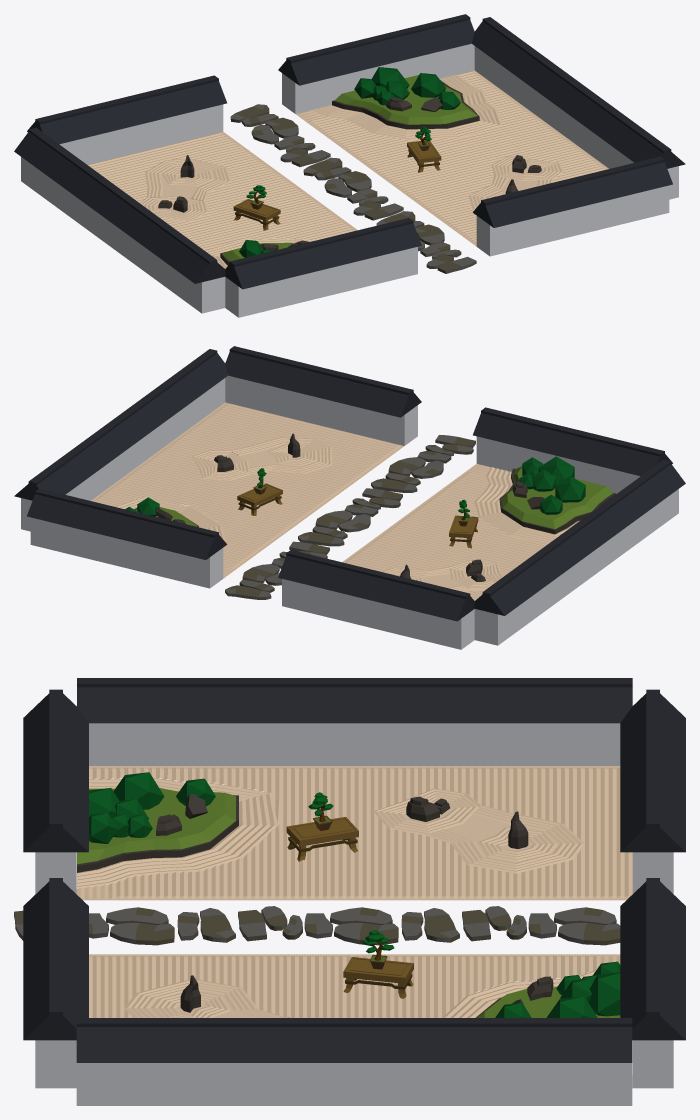
The model's file is TT_Japanese_sand_Garden.fbx.
3 views of the same model, one above another, from view 1: azimuth 30°, elevation 25°; view 2: azimuth 150°, elevation 25°; view 3: azimuth 270°, elevation 25° (orthographic). The views are drawn at different scales.
Parts seen in each view (by area): view 1: Sand_garden_Full; view 2: Sand_garden_Full; view 3: Sand_garden_Full.
Part boxes in pixels (x1,y1,x2,y2): Sand_garden_Full: (14,14,685,317); Sand_garden_Full: (14,346,685,649); Sand_garden_Full: (14,678,685,1105).
Bounding box in the file's own units: 1042 × 109 × 805.
